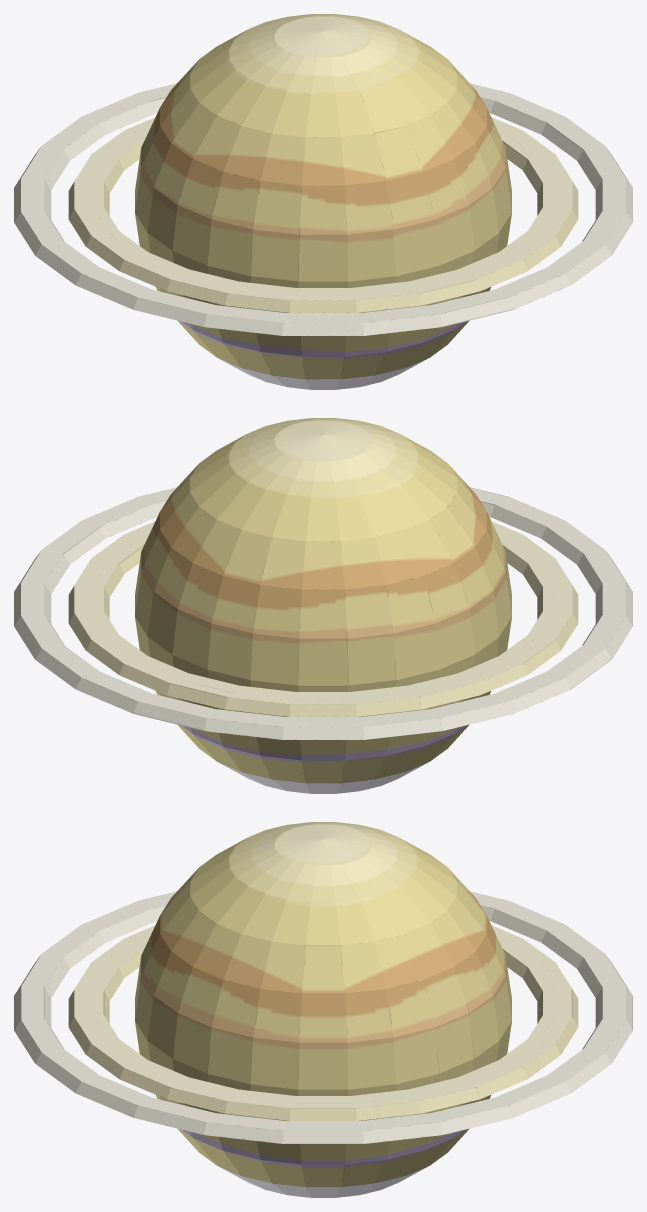
File: saturn.fbx
The picture shows the model from 3 angles, top to bottom: view 1: azimuth 30°, elevation 25°; view 2: azimuth 150°, elevation 25°; view 3: azimuth 270°, elevation 25°; orthographic projection.
Visible parts, largest first — view 1: planet, ringOuter, inner1, inner2; view 2: planet, ringOuter, inner1, inner2; view 3: planet, ringOuter, inner1, inner2.
Part boxes in pixels (box(x1,y1,x2,y2)): planet: box(135, 14, 511, 389); ringOuter: box(14, 83, 632, 335); inner1: box(68, 117, 578, 312); inner2: box(92, 126, 553, 295); planet: box(135, 418, 511, 793); ringOuter: box(14, 487, 632, 739); inner1: box(68, 521, 578, 716); inner2: box(92, 530, 553, 699); planet: box(135, 822, 511, 1197); ringOuter: box(14, 891, 632, 1143); inner1: box(68, 925, 578, 1120); inner2: box(91, 934, 556, 1103).
Bounding box in the file's own units: 1312 × 800 × 1312.
Materials: 1 (1 with a texture image).
